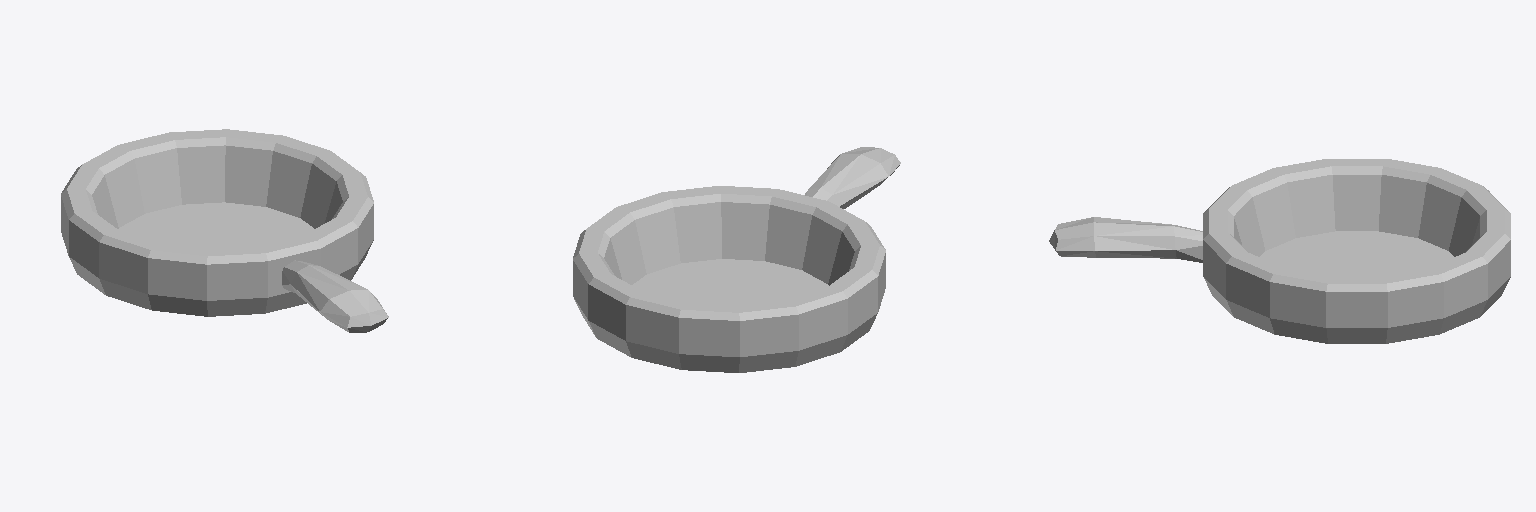
File: pan_A.obj
3 renders of one model, left to right at view 1: azimuth 30°, elevation 25°; view 2: azimuth 150°, elevation 25°; view 3: azimuth 270°, elevation 25°, orthographic.
Visible parts, largest first — view 1: pan_A_Cylinder.196; view 2: pan_A_Cylinder.196; view 3: pan_A_Cylinder.196.
Part boxes in pixels (bbox=[...]): pan_A_Cylinder.196: bbox=[61, 129, 388, 332]; pan_A_Cylinder.196: bbox=[573, 147, 900, 372]; pan_A_Cylinder.196: bbox=[1049, 159, 1510, 343].
Bounding box in the file's own units: 1 × 0.25 × 1.5.